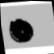correct: (6, 15, 35, 45)
